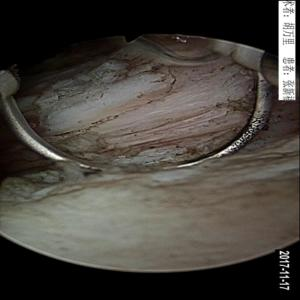film: (27, 66, 284, 165)
